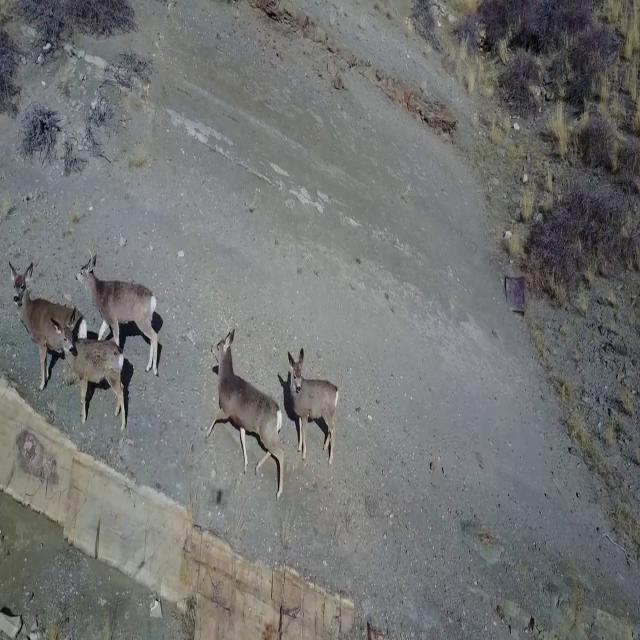Deer: (205, 327, 285, 498), (6, 257, 88, 390), (77, 252, 161, 380), (57, 318, 129, 434), (286, 350, 344, 462)
